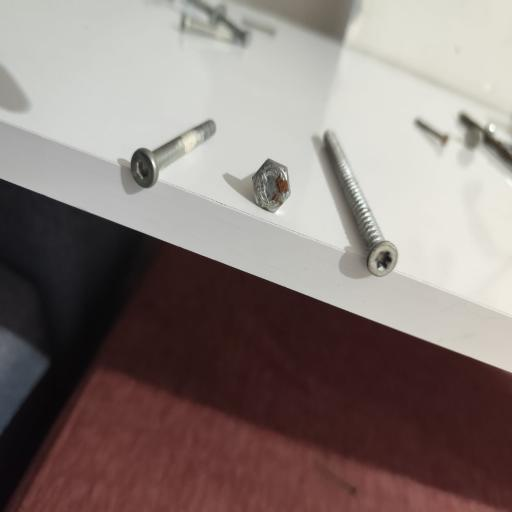Hex-Allen: (251, 155, 292, 215), (129, 144, 157, 190)
Torx: (366, 240, 399, 280)
